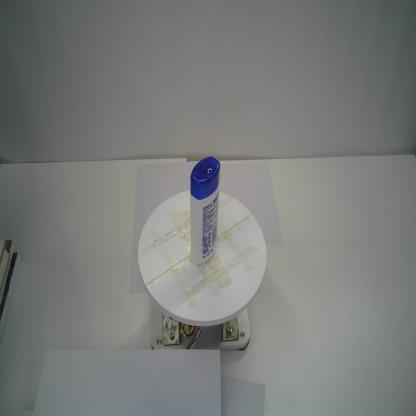Personal Hygiene: (190, 156, 220, 266)
